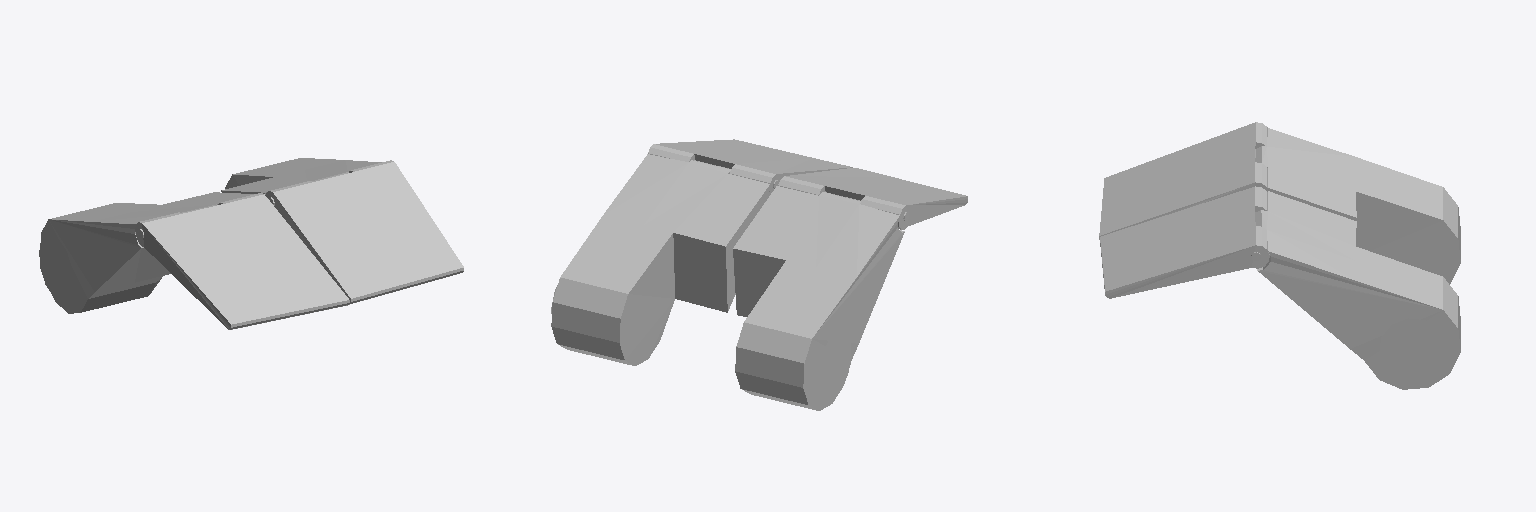
The model's file is fingerA.obj.
3 views of the same model, side by side, from view 1: azimuth 30°, elevation 25°; view 2: azimuth 150°, elevation 25°; view 3: azimuth 270°, elevation 25° (orthographic).
Visible parts, largest first — view 1: polySurface32; view 2: polySurface32; view 3: polySurface32.
Part boxes in pixels (left/top/right/bottom): polySurface32: left=39, top=158, right=463, bottom=329; polySurface32: left=551, top=139, right=967, bottom=410; polySurface32: left=1099, top=122, right=1460, bottom=389.
Size of the model in its own units: 80.37 by 41.71 by 94.5.